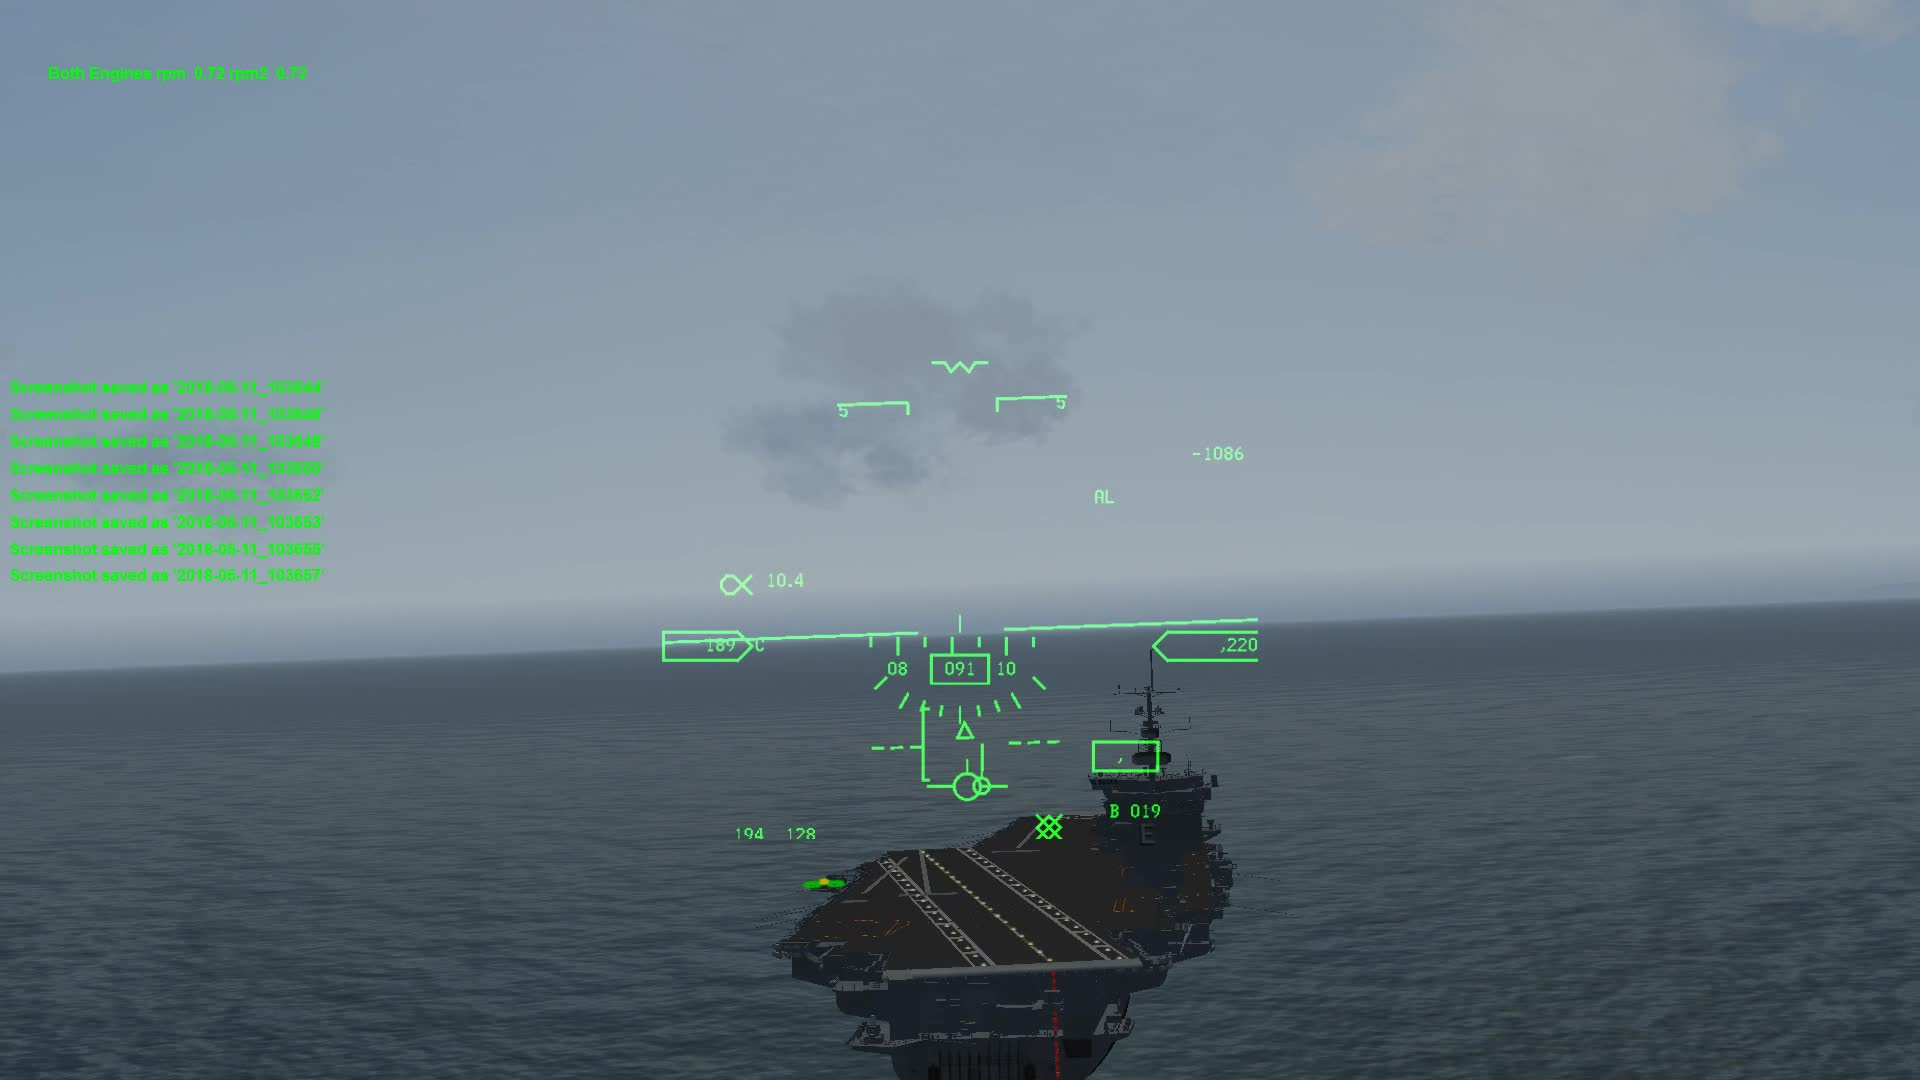speed vector: (930, 752, 1025, 803)
